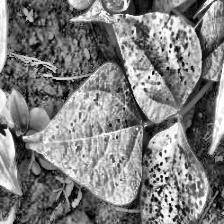Bean Rust: (40, 67, 144, 207), (106, 9, 198, 129), (128, 120, 207, 224), (148, 0, 199, 13)
